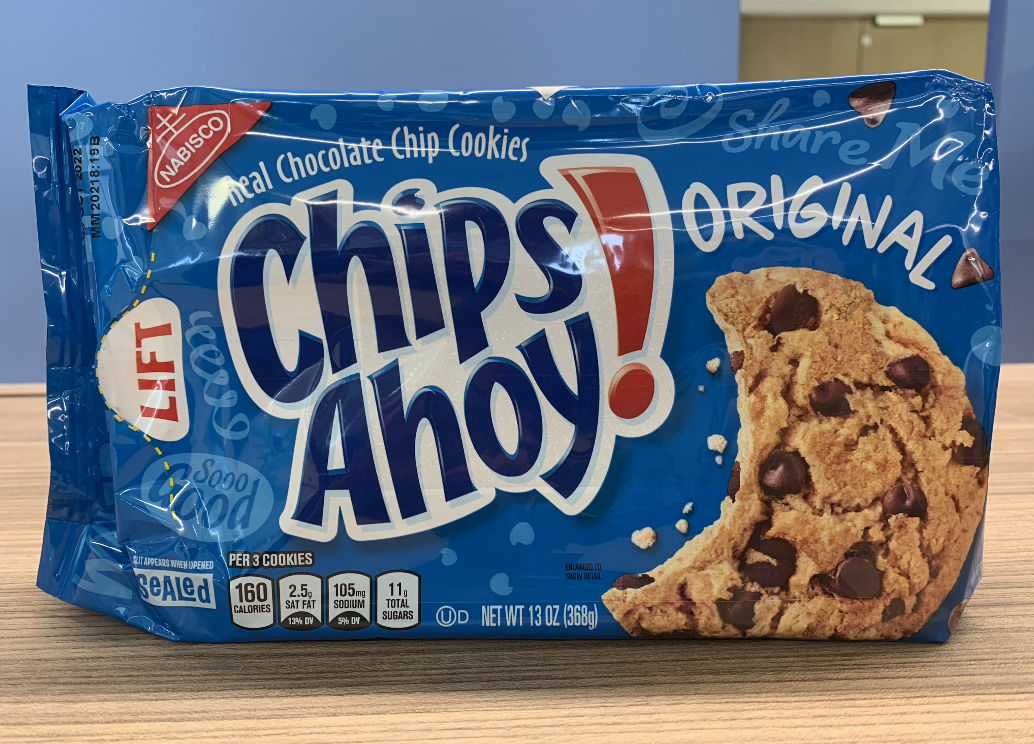cookies_150g: (86, 114, 957, 638)
